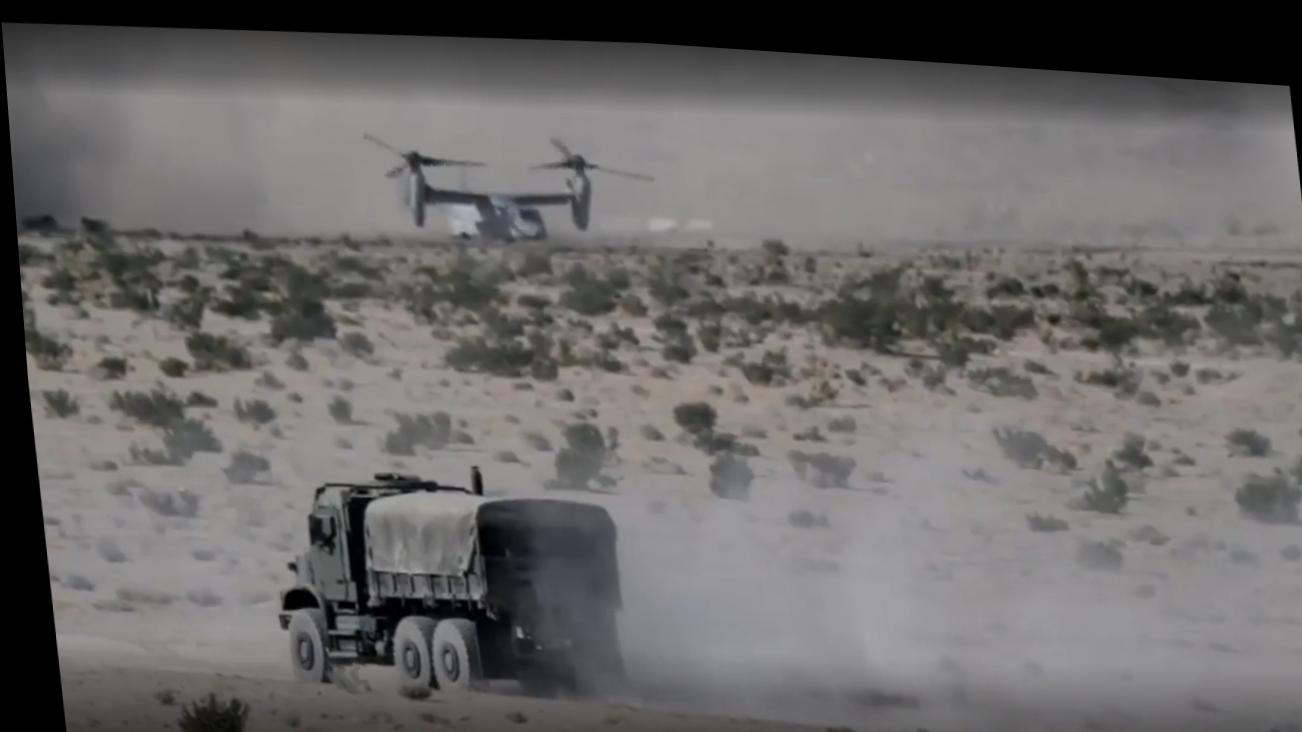truck: (261, 460, 643, 716)
